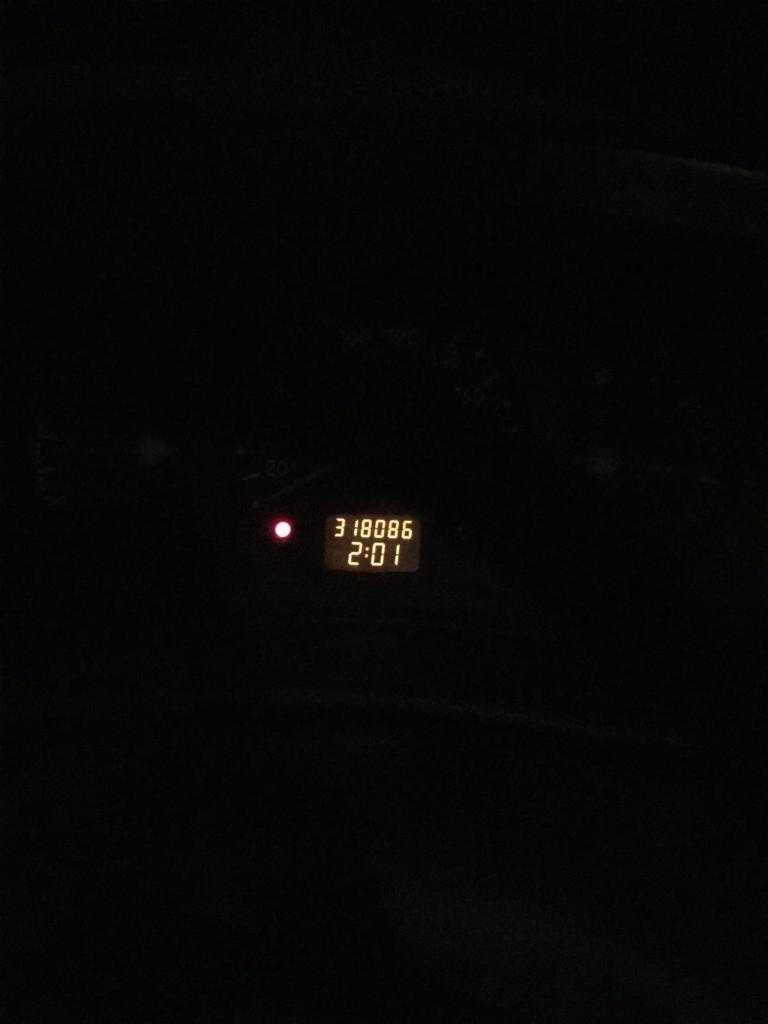0: (371, 541, 386, 566), (373, 517, 386, 538)
1: (393, 541, 401, 570), (352, 518, 358, 537)
2: (347, 540, 362, 566)
3: (334, 516, 345, 537)
6: (400, 519, 415, 539)
8: (360, 517, 372, 538), (387, 518, 399, 538)
X: (363, 544, 370, 560)
odometer: (321, 512, 423, 573)
